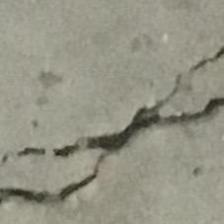Crack: (12, 45, 224, 224)
